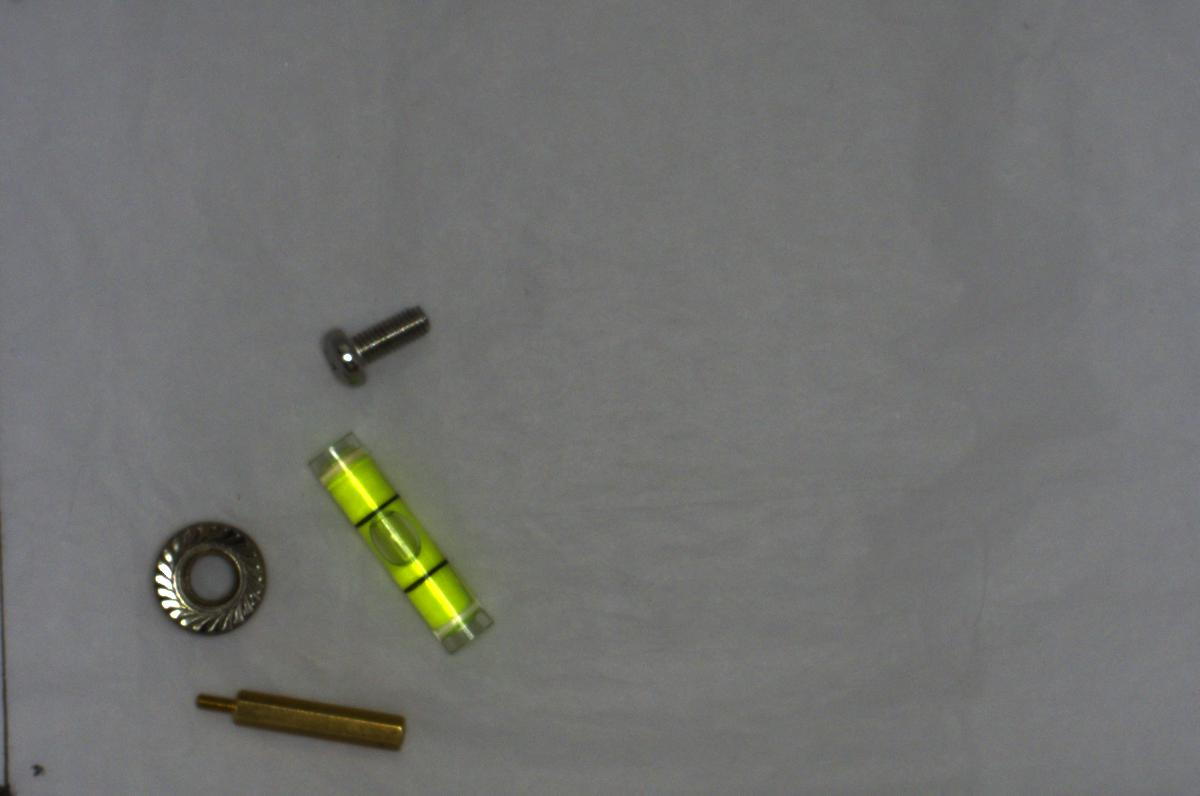Flange nut: (150, 500, 275, 648)
Hexagon pillar: (194, 679, 424, 767)
Horizontal bubble: (308, 427, 500, 659)
Round head screw: (313, 287, 432, 388)
